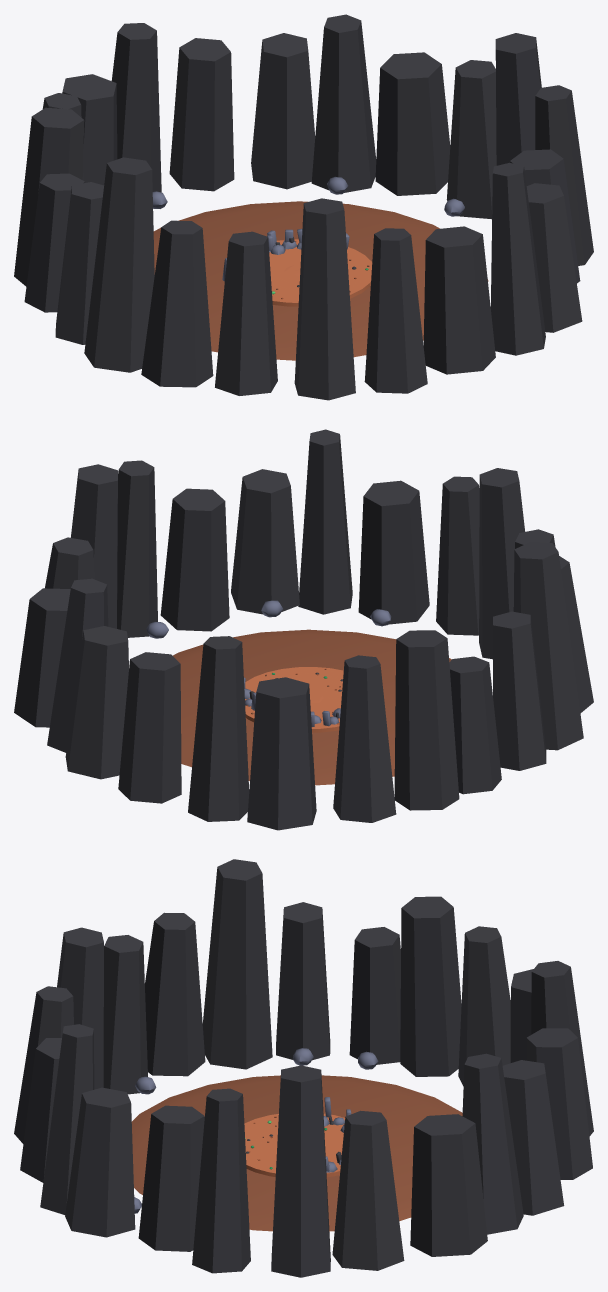
File: crag_pup.glb
3 renders of one model, top to bottom at view 1: azimuth 30°, elevation 25°; view 2: azimuth 150°, elevation 25°; view 3: azimuth 270°, elevation 25°, orthographic. The views are drawn at different scales.
Parts seen in each view (by area): view 1: CragPupGround; view 2: CragPupGround; view 3: CragPupGround.
Boxes of the visible parts, <box> form: CragPupGround: <box>14,14,593,400</box>; CragPupGround: <box>14,429,593,830</box>; CragPupGround: <box>14,859,593,1277</box>.
Size of the model in its own units: 45.85 by 16.82 by 46.31.
Materials: 1 (1 with a texture image).
